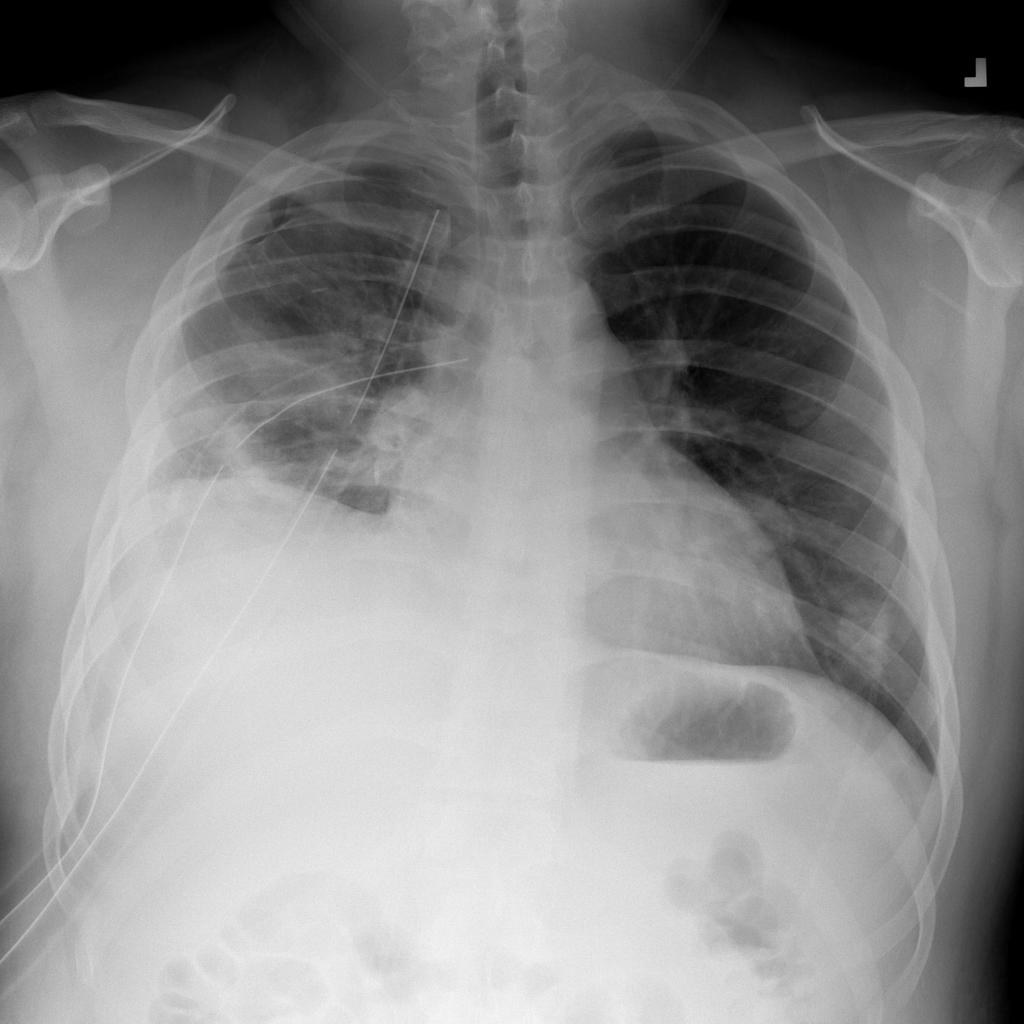nodule: (813, 574, 921, 687), (720, 481, 806, 556), (769, 368, 850, 442), (629, 495, 708, 564), (732, 568, 809, 637)
